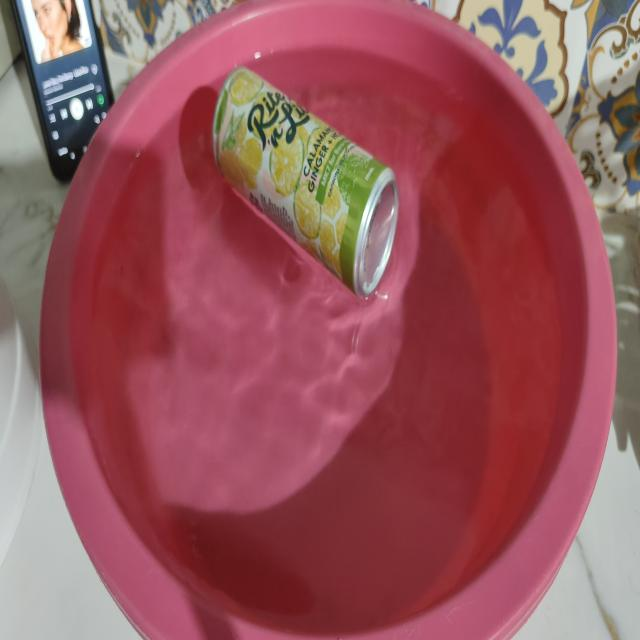Aluminum Can: (187, 31, 425, 325)
